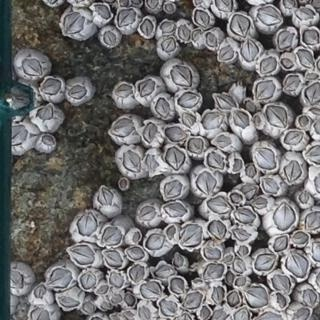Barnacle: (273, 201, 296, 229), (286, 252, 310, 277), (69, 243, 95, 265), (266, 104, 288, 128), (63, 11, 85, 35), (48, 268, 73, 289), (246, 286, 270, 307), (181, 223, 202, 247), (197, 170, 217, 195), (166, 146, 186, 171), (110, 118, 135, 138), (121, 150, 143, 172), (255, 79, 277, 101), (5, 124, 28, 145), (230, 14, 251, 37), (201, 111, 226, 130), (256, 6, 281, 25), (255, 147, 277, 168), (171, 66, 193, 87), (19, 57, 43, 76), (202, 261, 225, 280), (100, 226, 123, 245), (79, 212, 97, 236), (208, 218, 227, 240), (164, 178, 182, 201), (177, 91, 200, 109), (207, 196, 232, 212), (140, 280, 163, 297), (242, 38, 259, 61), (116, 8, 135, 28), (103, 251, 124, 269), (142, 122, 160, 143), (285, 159, 302, 181), (256, 253, 276, 271), (207, 151, 227, 169), (231, 226, 252, 243), (304, 82, 319, 105), (42, 78, 61, 96), (8, 269, 25, 289), (283, 129, 304, 145), (165, 202, 187, 217), (272, 273, 290, 291), (80, 271, 98, 289), (285, 74, 302, 93), (260, 55, 277, 74), (278, 30, 295, 49), (57, 295, 80, 309), (146, 233, 166, 249), (235, 208, 256, 223), (166, 126, 187, 141), (305, 210, 319, 232), (160, 299, 178, 316), (184, 291, 202, 308), (240, 183, 257, 201), (262, 177, 280, 194), (298, 50, 314, 69), (303, 289, 318, 309), (217, 94, 237, 109), (156, 96, 170, 117), (139, 204, 156, 221), (98, 188, 115, 205), (187, 137, 205, 153), (234, 110, 250, 128), (155, 264, 175, 278), (218, 45, 234, 62), (110, 271, 125, 289), (130, 263, 145, 281), (195, 9, 210, 27), (31, 305, 50, 319), (127, 245, 146, 259), (139, 80, 155, 96), (303, 29, 319, 45), (251, 195, 268, 210), (204, 245, 222, 259), (145, 153, 159, 171), (273, 236, 288, 252), (307, 144, 319, 164), (182, 110, 197, 126), (95, 4, 111, 19), (292, 231, 309, 245), (38, 105, 55, 119), (295, 8, 316, 19), (103, 30, 118, 45), (170, 277, 184, 293), (233, 257, 247, 273), (117, 84, 133, 98), (162, 37, 176, 53), (212, 286, 225, 303), (68, 85, 85, 98), (205, 31, 218, 48), (215, 0, 233, 12), (275, 291, 288, 307), (214, 135, 230, 148), (177, 24, 190, 40), (294, 307, 311, 319), (213, 307, 230, 319), (142, 18, 154, 35), (234, 306, 249, 319), (227, 291, 240, 306), (34, 283, 47, 298), (138, 306, 152, 319), (200, 305, 212, 319), (120, 308, 135, 319), (232, 158, 243, 173), (160, 22, 175, 33), (167, 224, 177, 240), (244, 99, 256, 112), (298, 115, 309, 129), (280, 57, 294, 68), (192, 29, 202, 44), (238, 244, 250, 256), (84, 300, 95, 313), (174, 252, 184, 266), (125, 293, 136, 305), (299, 190, 309, 203), (247, 164, 257, 177), (41, 135, 55, 144), (133, 231, 143, 243), (230, 192, 242, 202), (147, 0, 160, 9), (227, 270, 235, 284), (98, 284, 109, 294), (307, 106, 319, 115), (306, 71, 319, 79), (283, 0, 296, 8), (103, 301, 113, 310), (223, 254, 233, 263), (120, 177, 127, 189), (255, 115, 262, 127), (165, 3, 174, 12), (113, 294, 123, 302), (311, 0, 319, 8), (130, 0, 142, 5), (119, 0, 129, 6)
